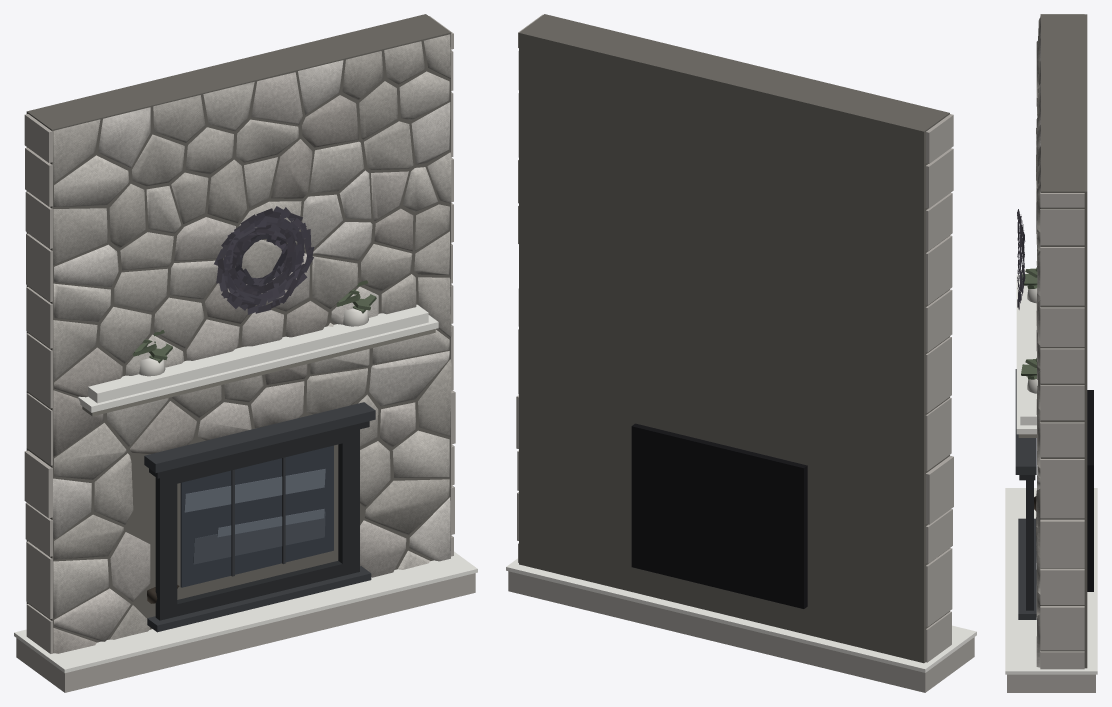
The model's file is fireplace5.glb.
The picture shows the model from 3 angles, left to right: view 1: azimuth 30°, elevation 25°; view 2: azimuth 150°, elevation 25°; view 3: azimuth 270°, elevation 25°; orthographic projection. The views are drawn at different scales.
Parts seen in each view (by area): view 1: root; view 2: root; view 3: root.
Boxes of the visible parts, x1=… form: root: x1=14, y1=14, x2=477, y2=692; root: x1=506, y1=14, x2=976, y2=692; root: x1=1005, y1=14, x2=1097, y2=692.
Size of the model in its own units: 2.16 by 2.74 by 0.4602.
Materials: 24 (10 with a texture image).
